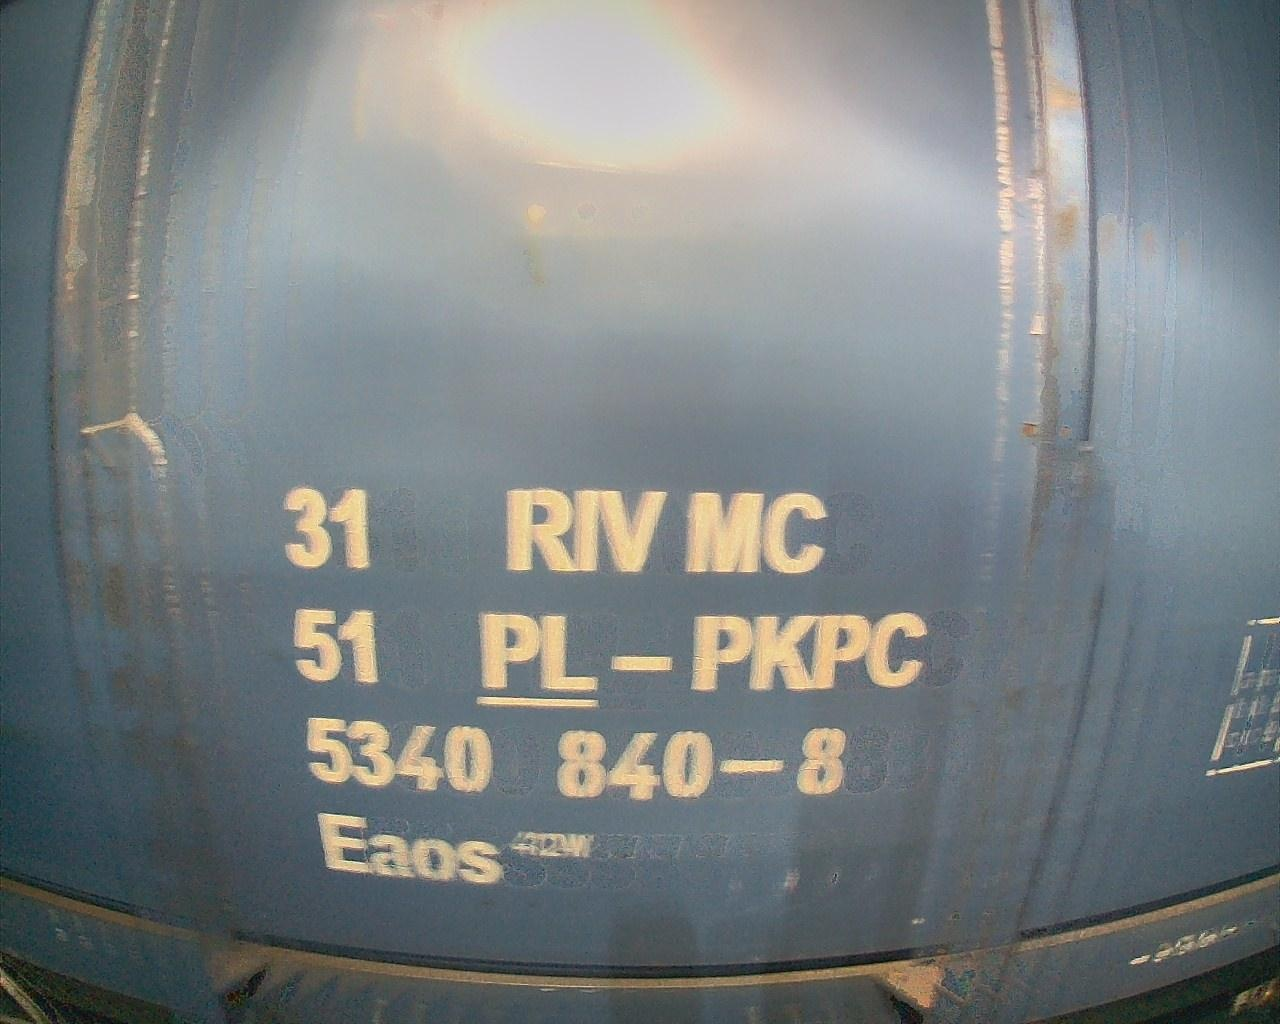UIC: (273, 478, 942, 895)
